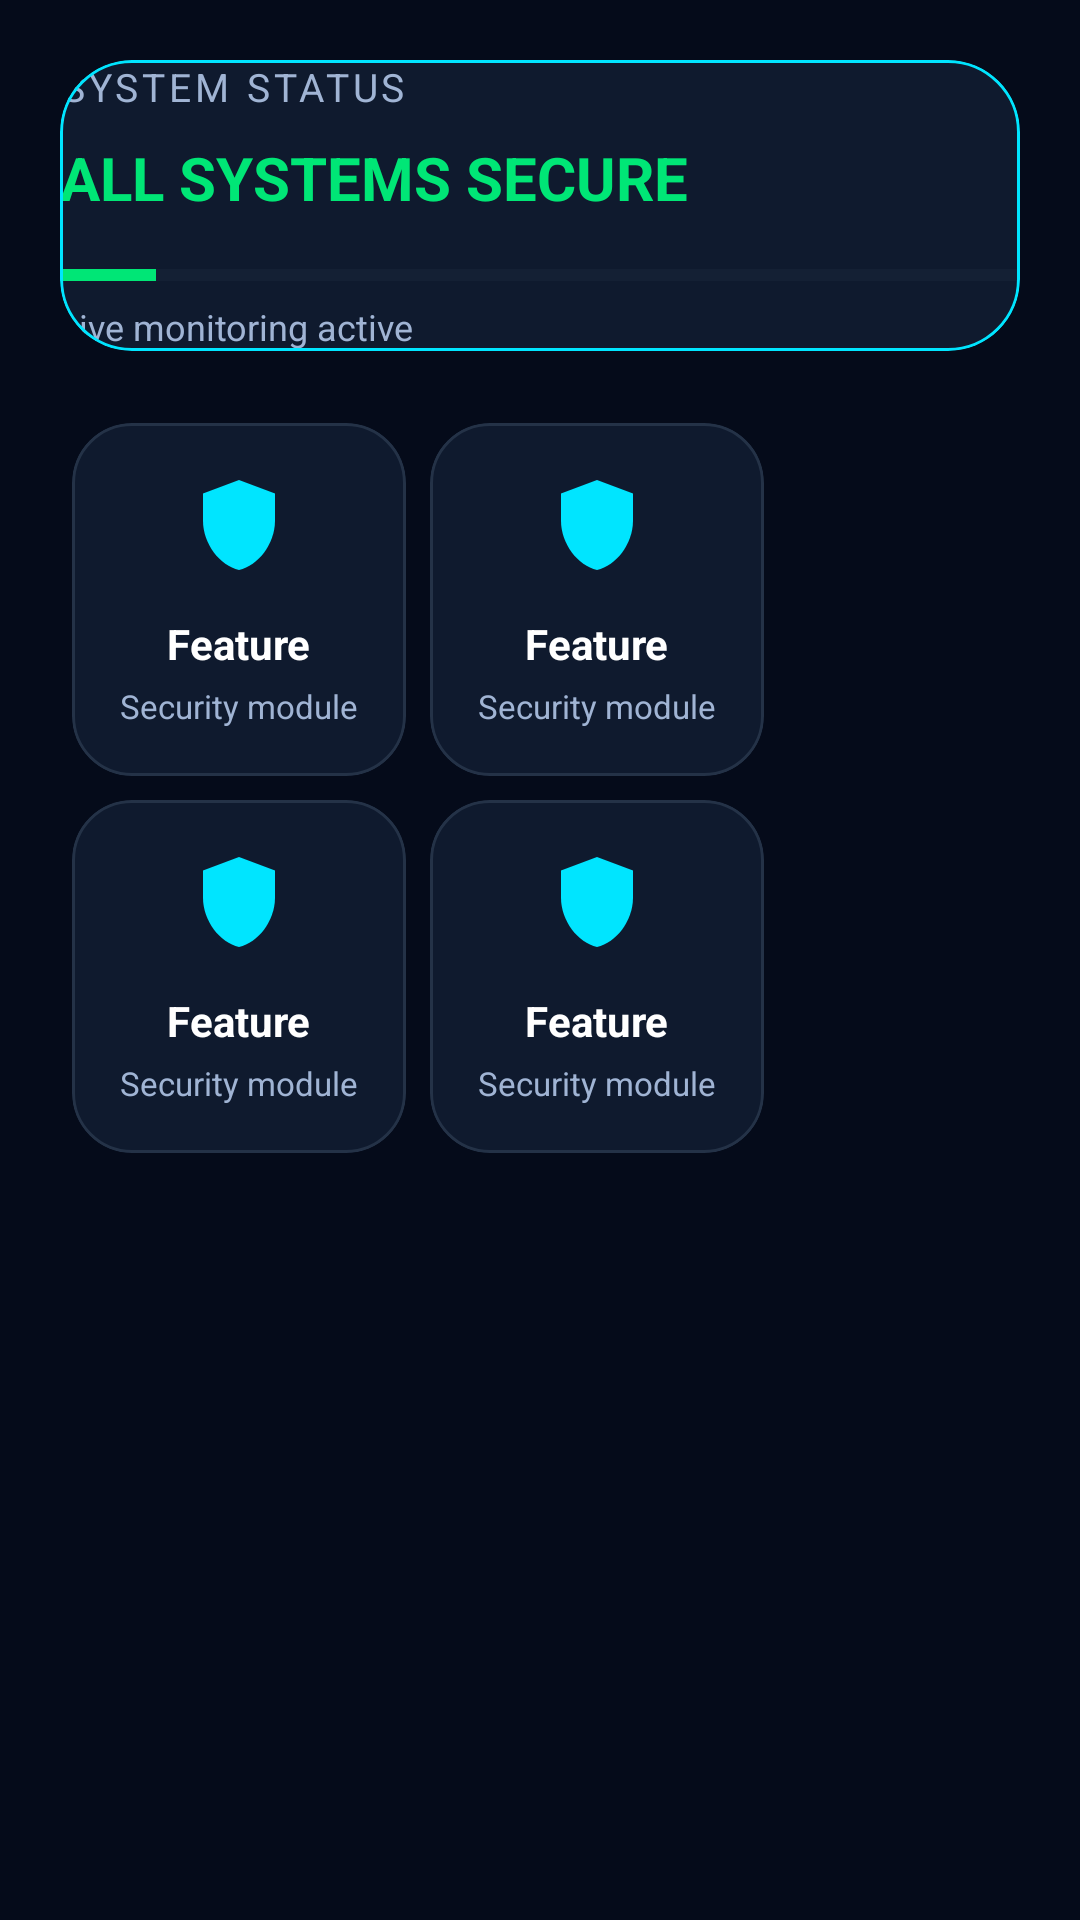

Named icons in this screenshot (1080x1920) and their bounding boxes, (x1, y1, x2, y2):
shield: (203, 480, 275, 570), (561, 480, 633, 570), (203, 857, 275, 947), (561, 857, 633, 947)
